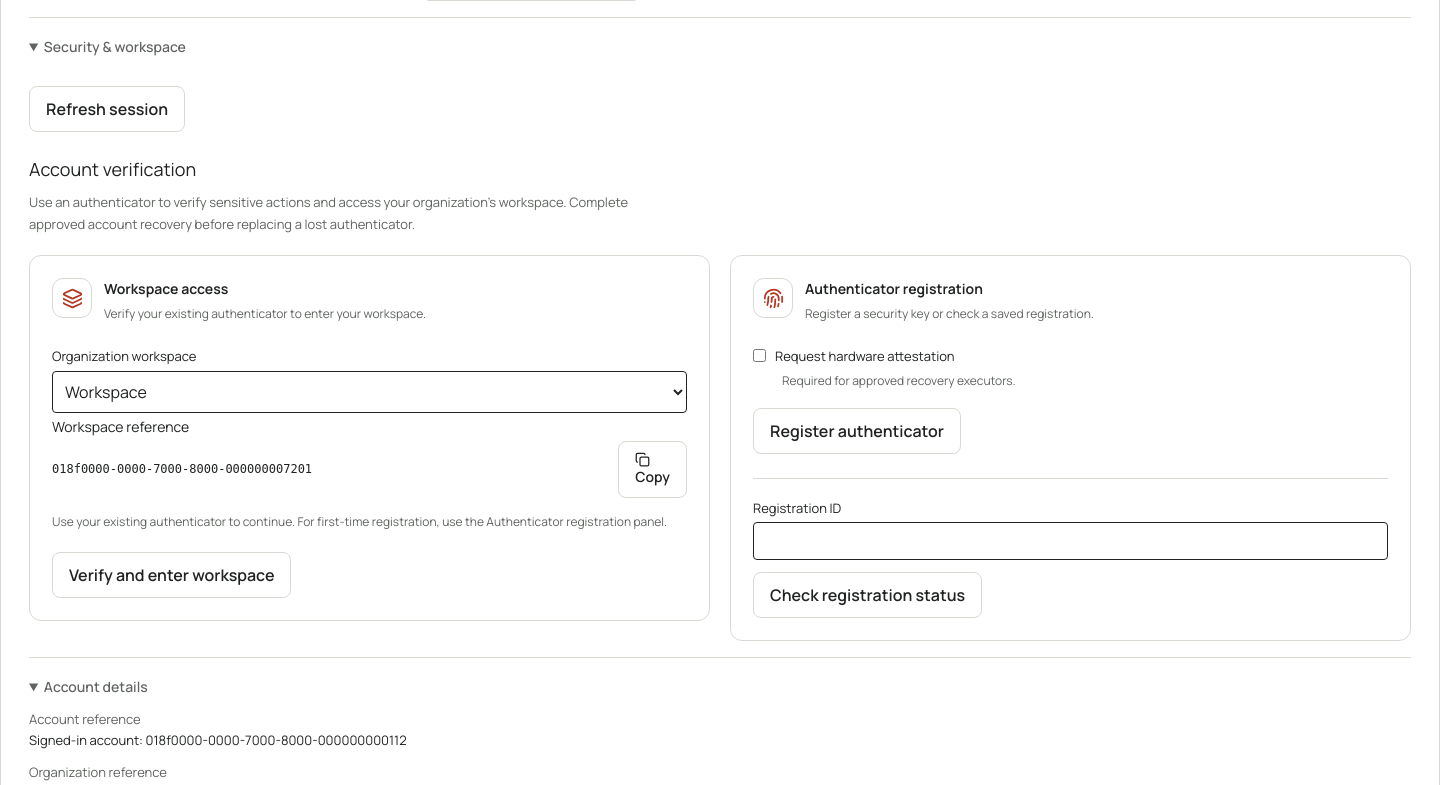
keeps server-advertised privacy contexts selectable from a PLATFORM session
This screenshot has width=1440, height=785.
(page scrolled)
Expected: the button "Verify and enter workspace" is enabled, [52,552,292,598]
Select "Choose a workspace" in the dropdown labelled "Organization workspace". click: (370, 392)
box: [52,371,687,413]
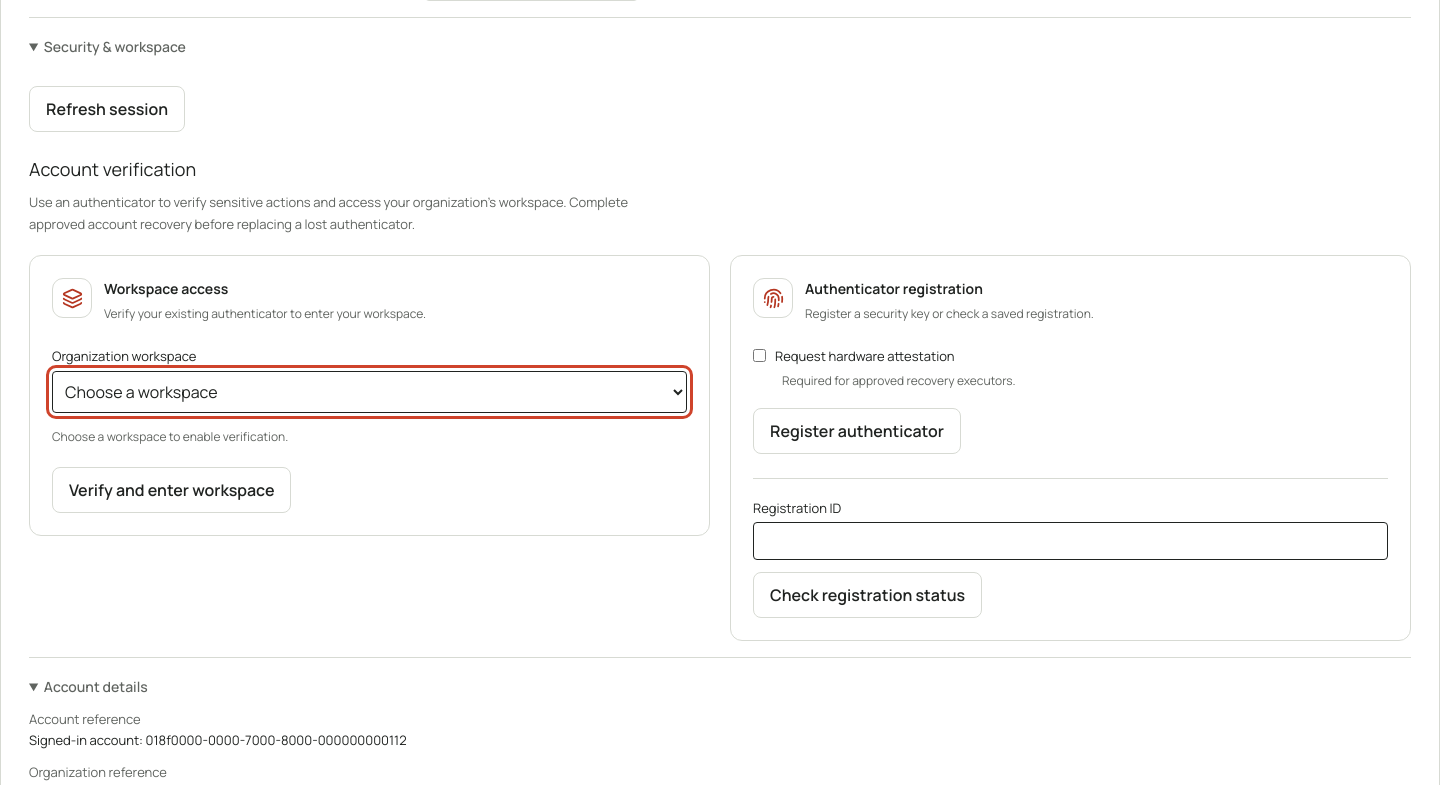
Expected: the button "Verify and enter workspace" is disabled, [52,467,292,513]
Select "Workspace" in the dropdown labelled "Organization workspace". click: (370, 392)
box: [52,371,687,413]
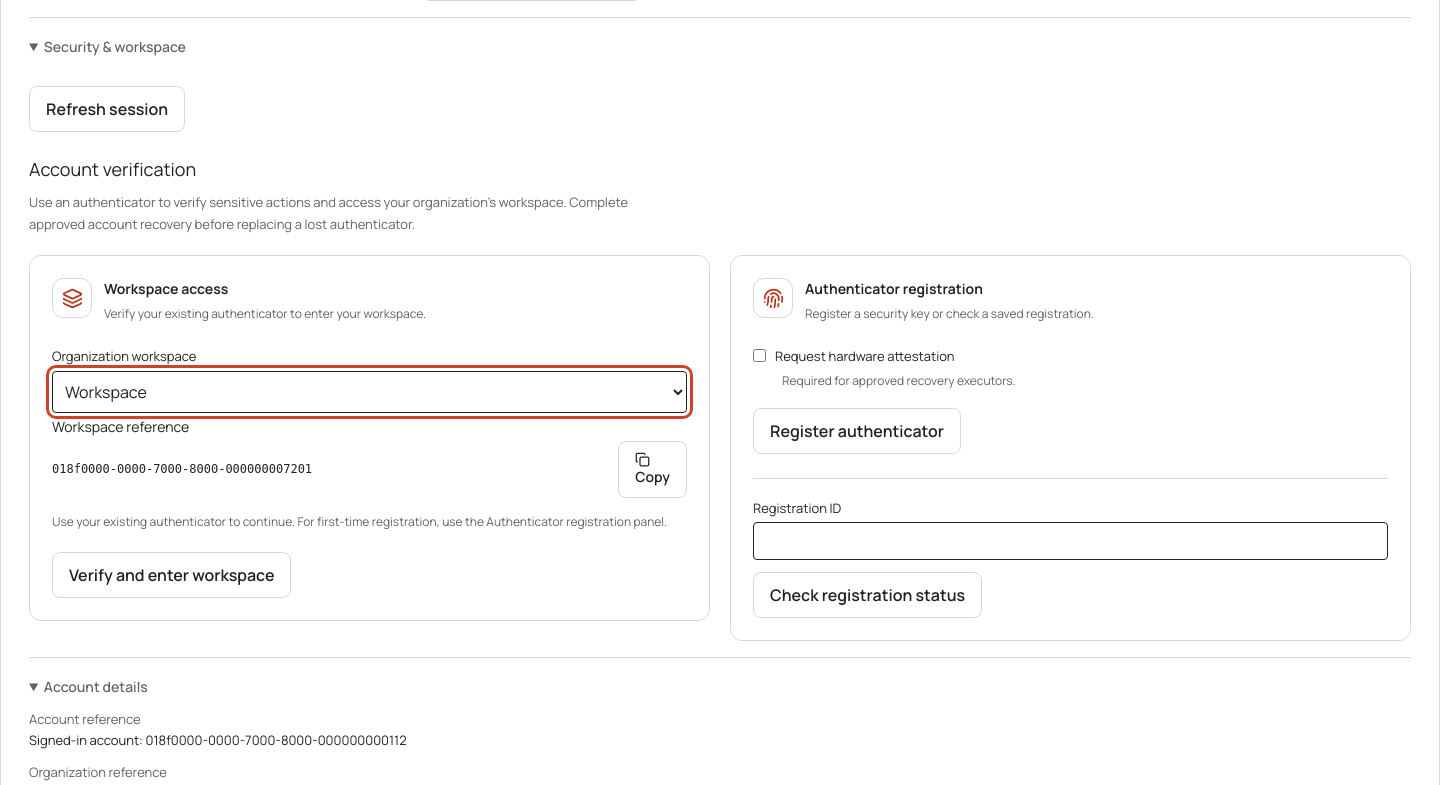
Expected: the button "Verify and enter workspace" is enabled, [52,552,292,598]
